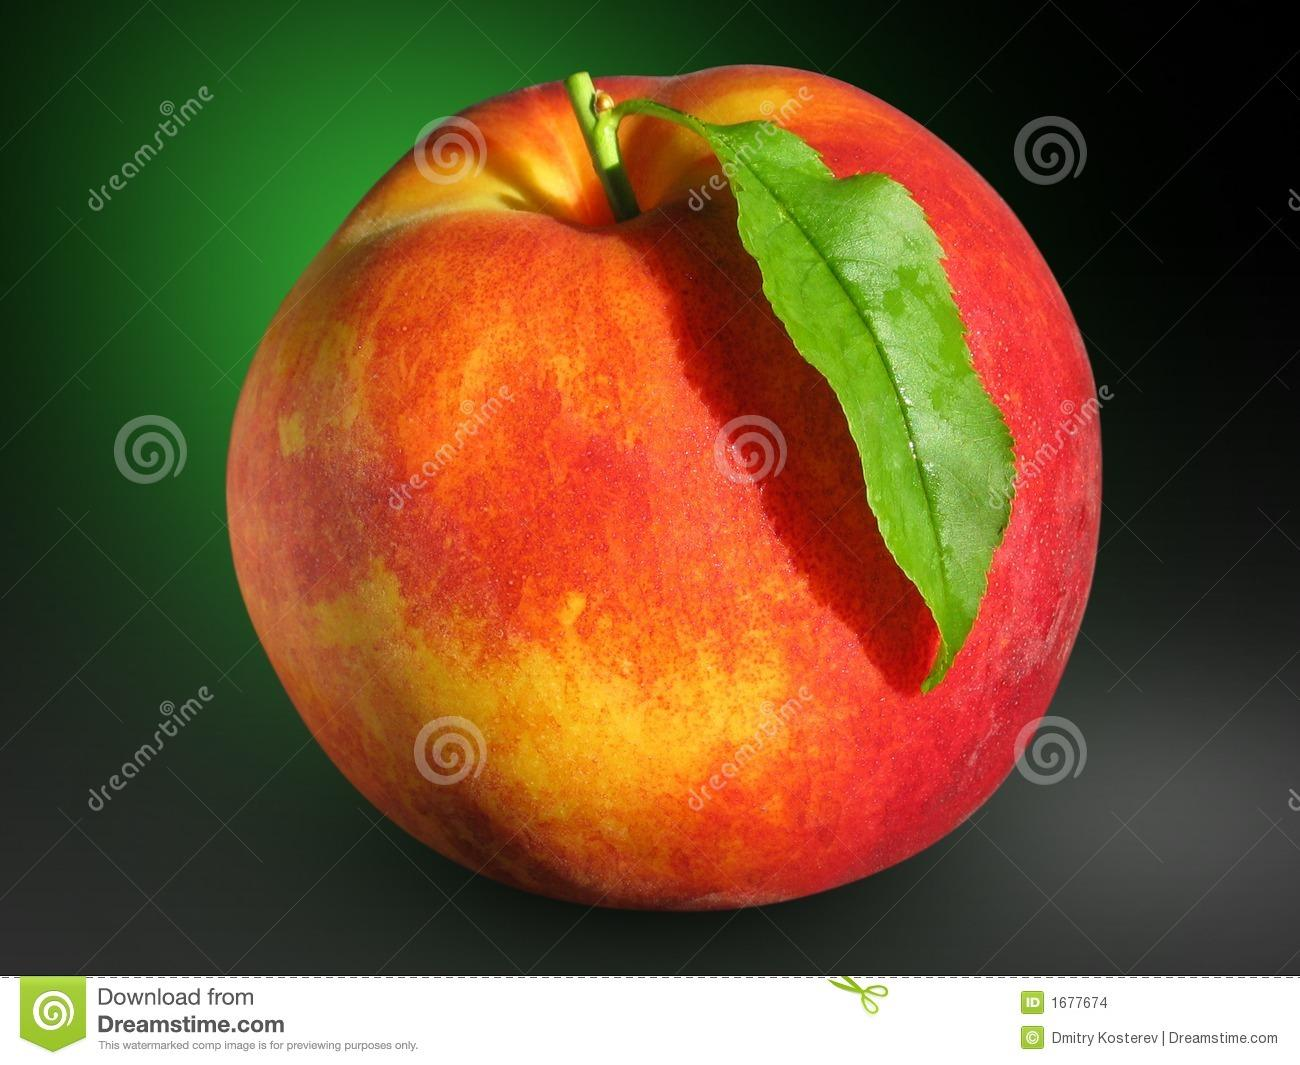Peach leaf: (692, 112, 1023, 727)
